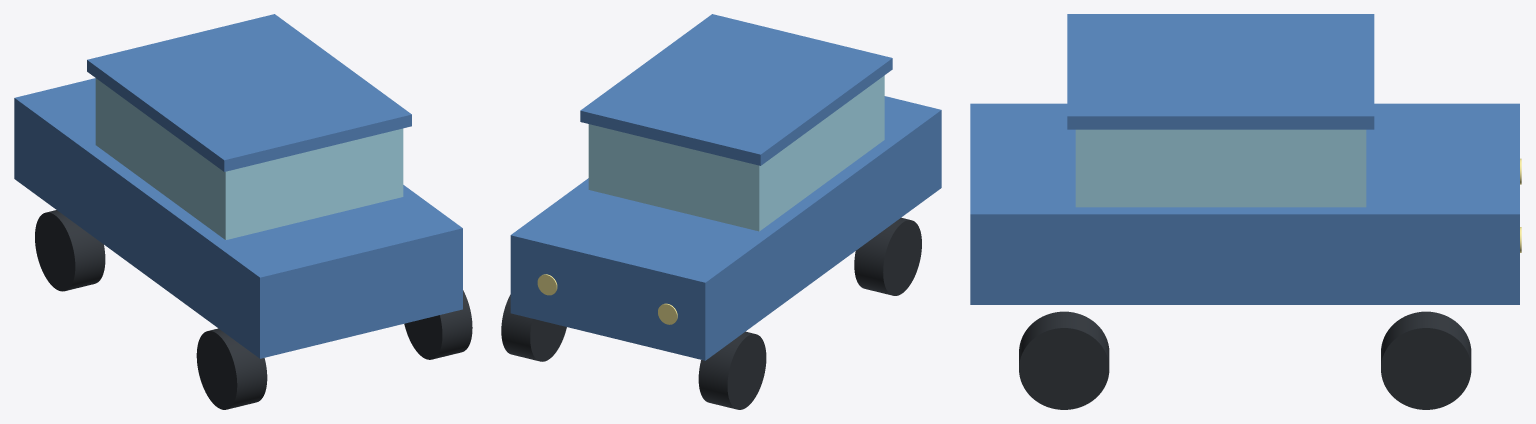
Rendered from car-blue.glb.
The picture shows the model from 3 angles, left to right: view 1: azimuth 30°, elevation 25°; view 2: azimuth 150°, elevation 25°; view 3: azimuth 270°, elevation 25°; orthographic projection. The views are drawn at different scales.
Parts seen in each view (by area): view 1: body, roof, cabin, wheel-0.82-1.12, wheel-0.821.12, wheel0.82-1.12; view 2: body, roof, cabin, wheel-0.821.12, wheel-0.82-1.12, wheel0.821.12; view 3: body, roof, cabin, wheel0.821.12, wheel0.82-1.12.
Part boxes in pixels (box(x1,y1,x2,y2)): body: box(14, 78, 462, 358); roof: box(87, 14, 411, 171); cabin: box(95, 78, 403, 239); wheel-0.82-1.12: box(196, 328, 267, 409); wheel-0.821.12: box(35, 210, 105, 291); wheel0.82-1.12: box(404, 290, 472, 359); body: box(510, 96, 941, 360); roof: box(580, 14, 892, 165); cabin: box(588, 75, 884, 231); wheel-0.821.12: box(698, 331, 766, 409); wheel-0.82-1.12: box(854, 217, 921, 295); wheel0.821.12: box(501, 294, 566, 361); body: box(970, 103, 1519, 304); roof: box(1067, 14, 1374, 129); cabin: box(1075, 129, 1366, 207); wheel0.821.12: box(1381, 311, 1471, 409); wheel0.82-1.12: box(1019, 311, 1109, 409).
Size of the model in its own units: 1.88 by 1.86 by 3.41.
